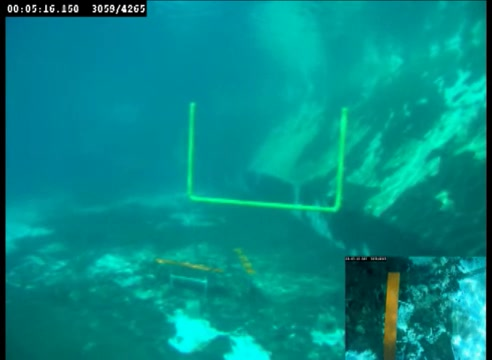channel: (183, 102, 353, 215)
